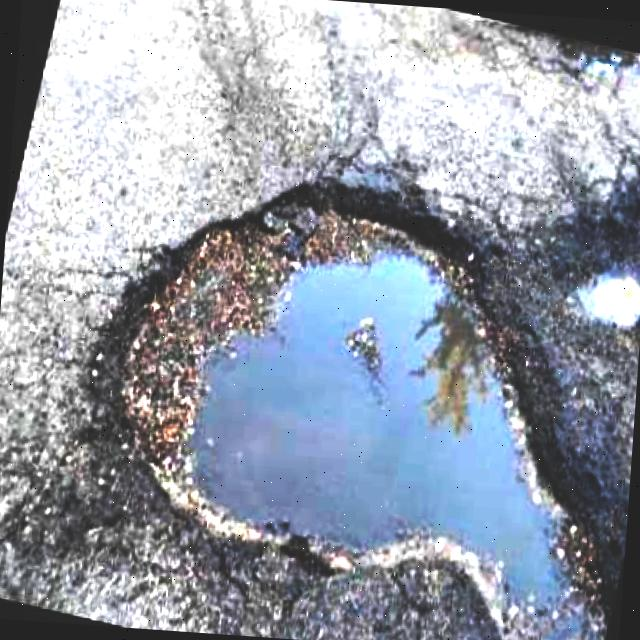pothole: (77, 161, 640, 640)
